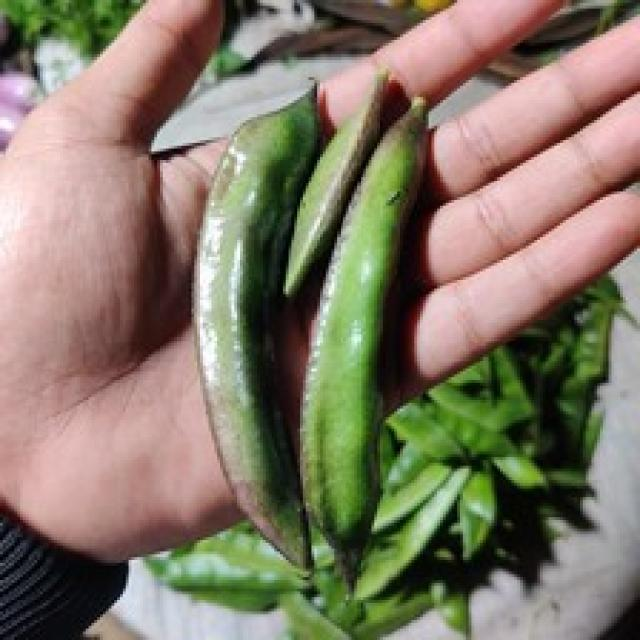Bean: (294, 91, 432, 594), (189, 77, 320, 574), (280, 66, 389, 297)
